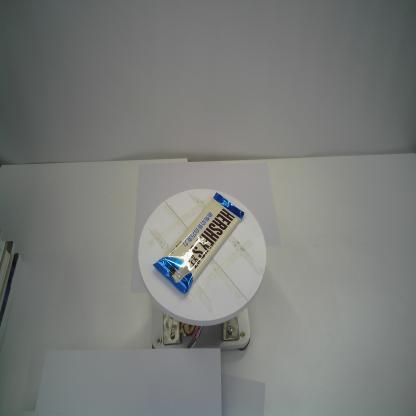Chocolate: (152, 191, 246, 295)
